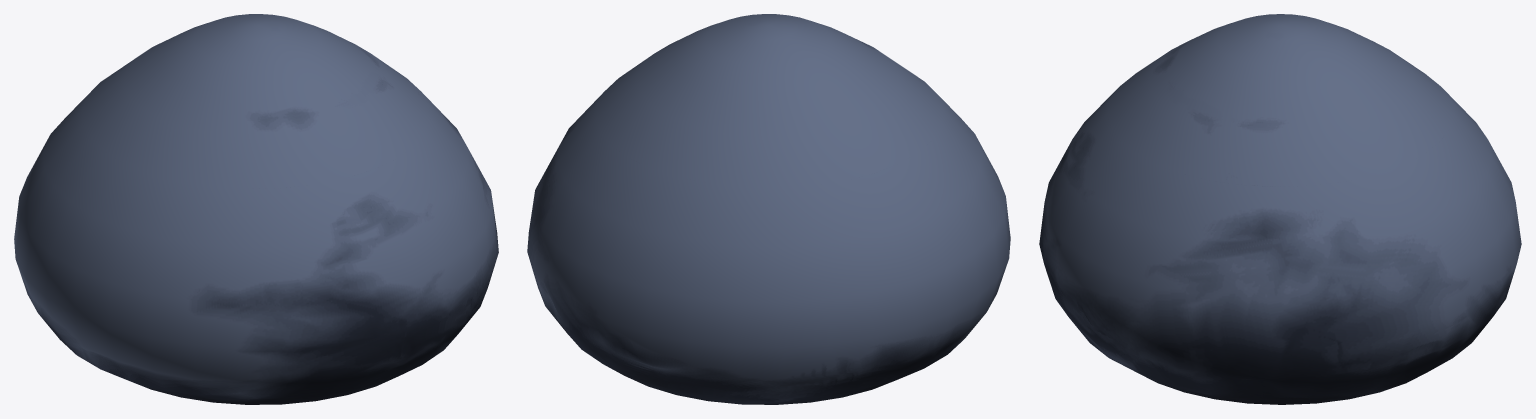
The model's file is slimeBody_black.gltf.
The picture shows the model from 3 angles, left to right: view 1: azimuth 30°, elevation 25°; view 2: azimuth 150°, elevation 25°; view 3: azimuth 270°, elevation 25°; orthographic projection.
Visible parts, largest first — view 1: Slime_Slime_0.001, Slime_Slime_0; view 2: Slime_Slime_0.001, Slime_Slime_0; view 3: Slime_Slime_0.001, Slime_Slime_0.
Part boxes in pixels (x1,y1,x2,y2): Slime_Slime_0.001: [14, 85, 498, 404]; Slime_Slime_0: [82, 14, 429, 188]; Slime_Slime_0.001: [527, 85, 1010, 404]; Slime_Slime_0: [596, 14, 942, 187]; Slime_Slime_0.001: [1039, 87, 1521, 404]; Slime_Slime_0: [1107, 14, 1453, 186].
Size of the model in its own units: 1.03 by 0.7421 by 1.03.
Materials: 1 (1 with a texture image).
